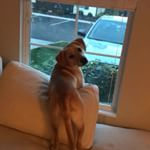puppy: (45, 34, 92, 150)
